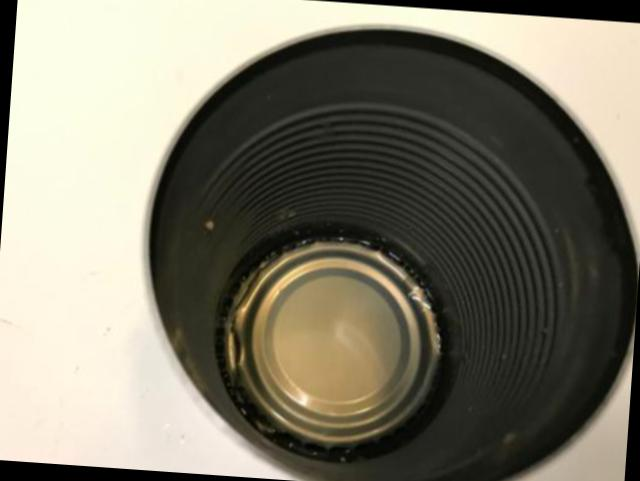metal: (147, 26, 634, 481)
